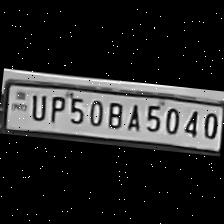0: (199, 106, 222, 138), (84, 94, 106, 126), (160, 102, 182, 134)
4: (179, 105, 202, 138)
5: (65, 92, 87, 124), (141, 100, 163, 132)
A: (124, 99, 144, 132)
B: (103, 97, 127, 130)
P: (43, 90, 66, 124)
U: (26, 88, 49, 122)
